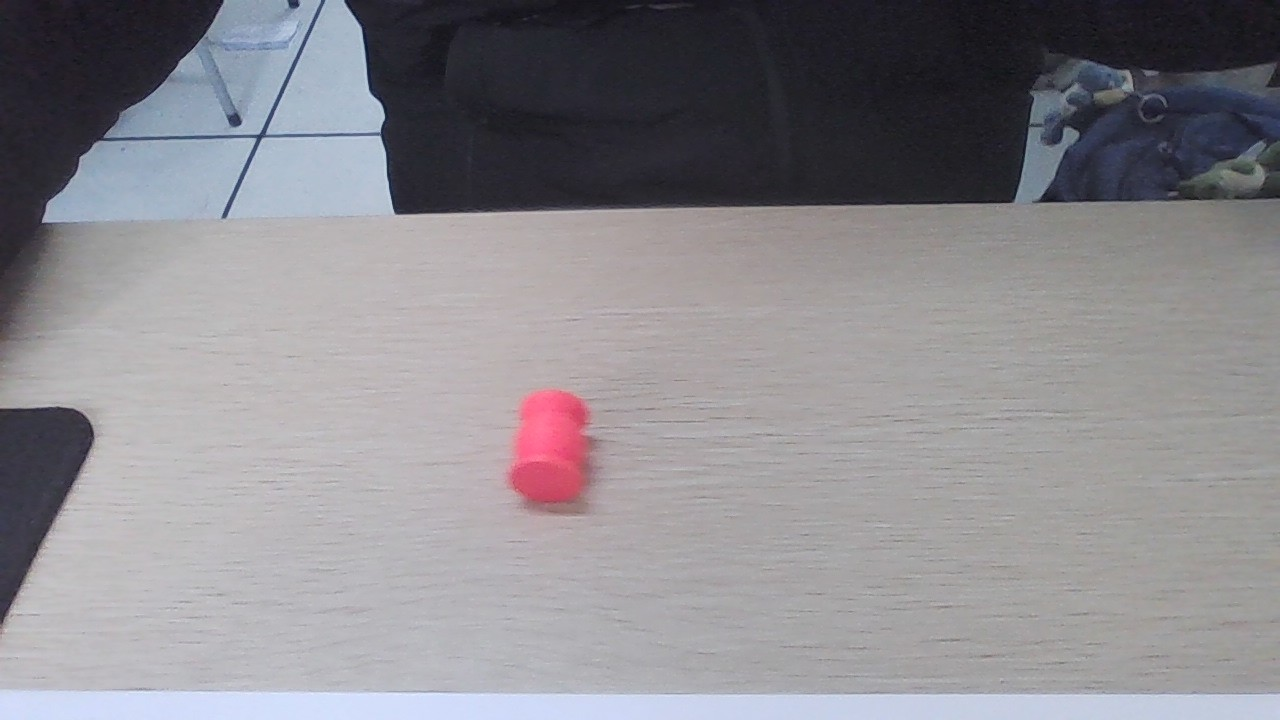KHS-plastic: (508, 393, 588, 497)
